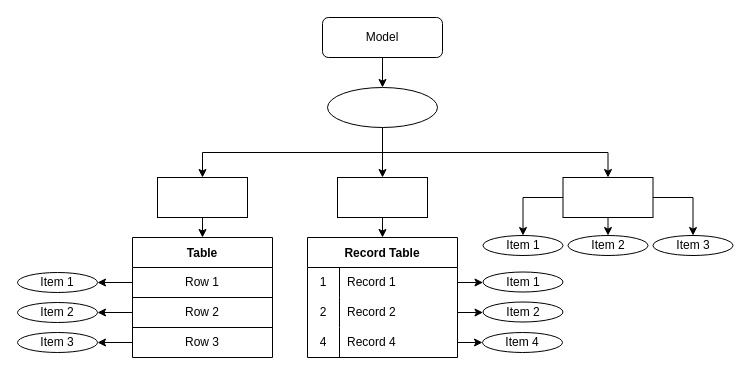
The diagram is 751 pixels wide and 375 high, and some of its shapes have lost their labels. The centre of each missing label's shape, as x and y in pixels:
Item: [382,107]
nodes: [607,197]
records: [382,197]
rows: [202,197]
